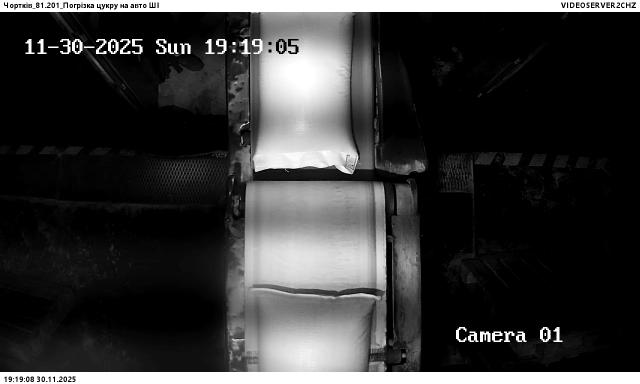bag: (254, 12, 362, 172), (256, 287, 381, 371)
